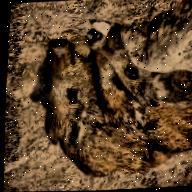boar: (34, 27, 114, 181)
